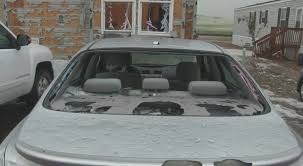Broken-glass: (53, 48, 264, 122)
